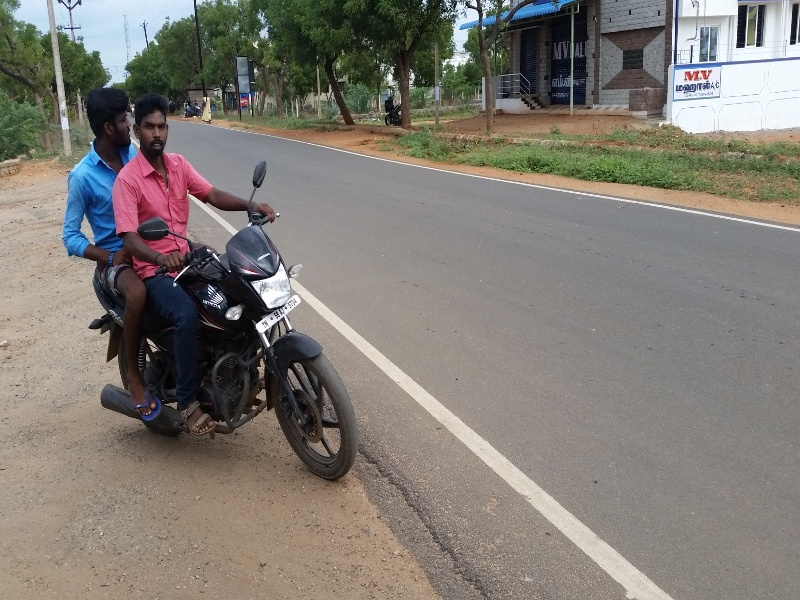biker: (32, 49, 422, 499)
nohelmet: (86, 78, 133, 169), (133, 88, 177, 169)
